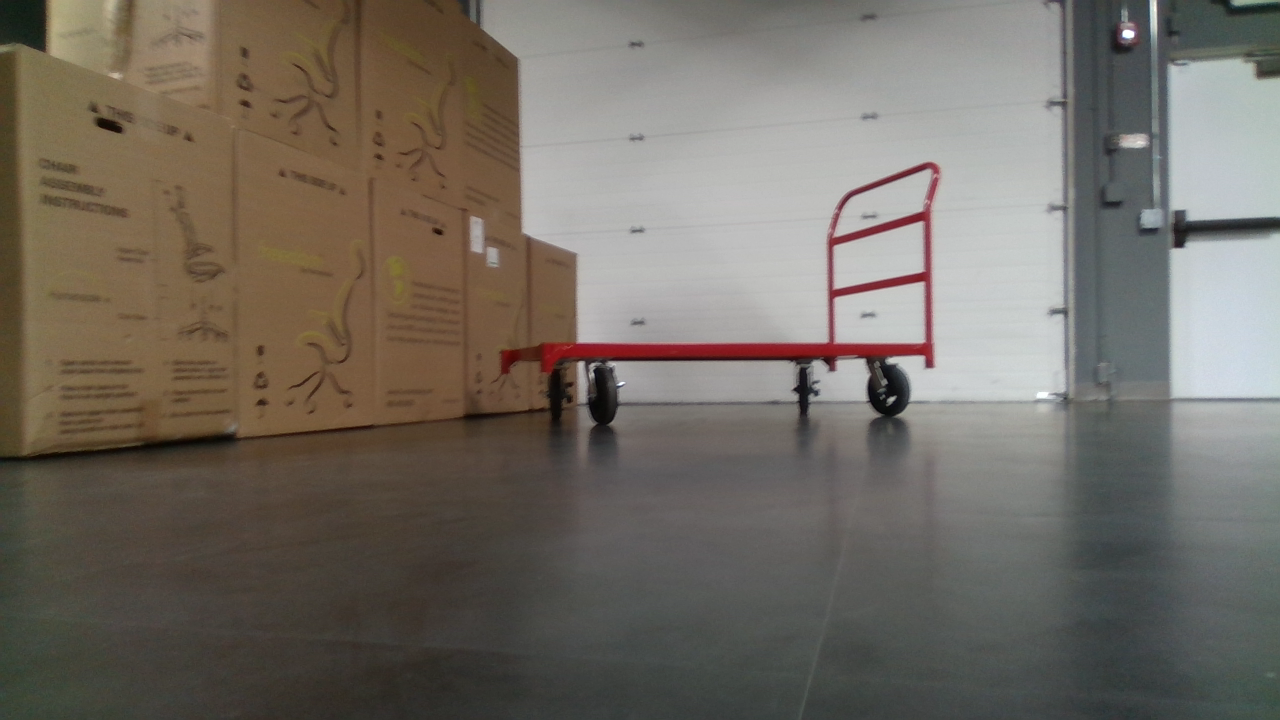Dolly: (497, 161, 942, 425)
Wheel: (865, 361, 913, 417), (586, 357, 624, 425), (543, 370, 571, 423), (794, 365, 821, 413)
